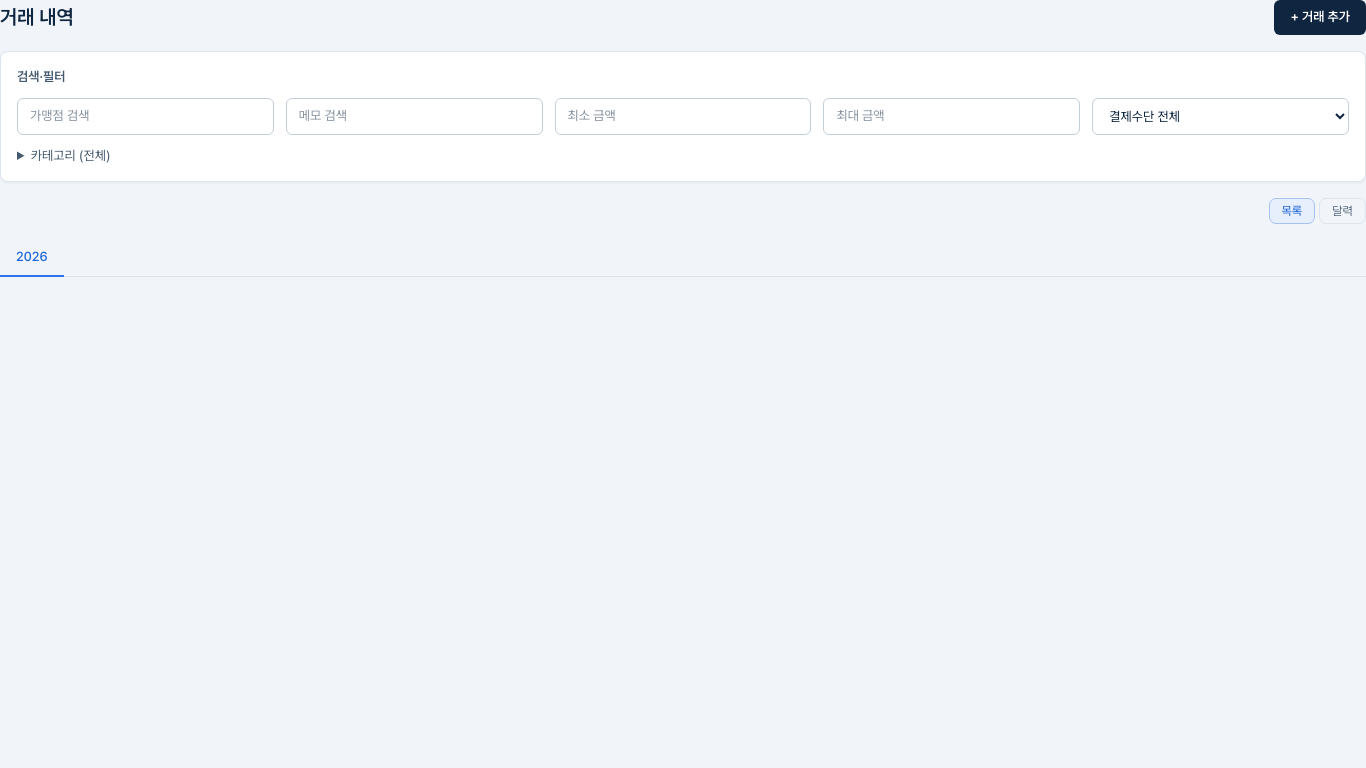
Test: 다 못 보여줄 때 알린다 › 서버가 자른 만큼을 그대로 말한다
Click the button "달력".
click(1343, 211)  # box top-left (1319, 198), bottom-right (1365, 224)
(page scrolled)
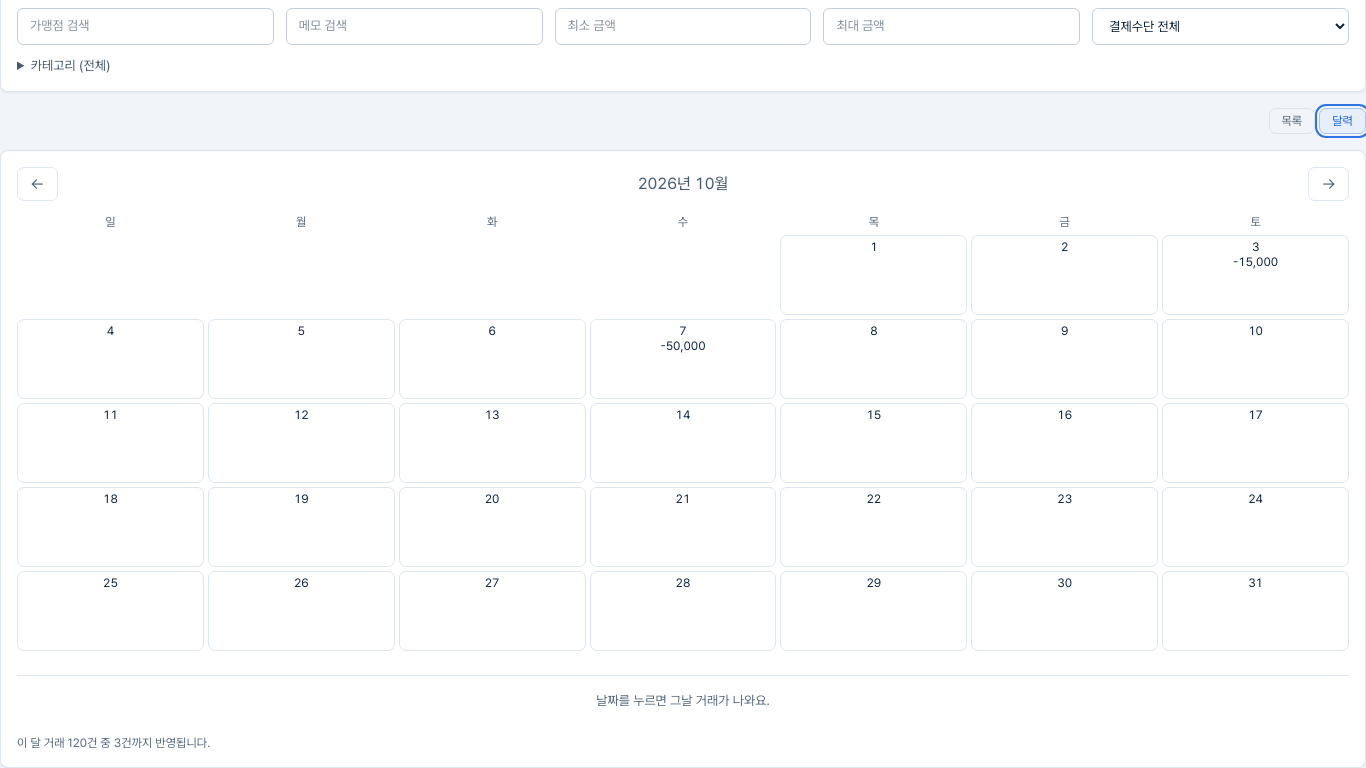
Check: the text "이 달 거래 120건 중 3건까지 반영됩니다." is shown, box top-left (17, 736), bottom-right (210, 750)
